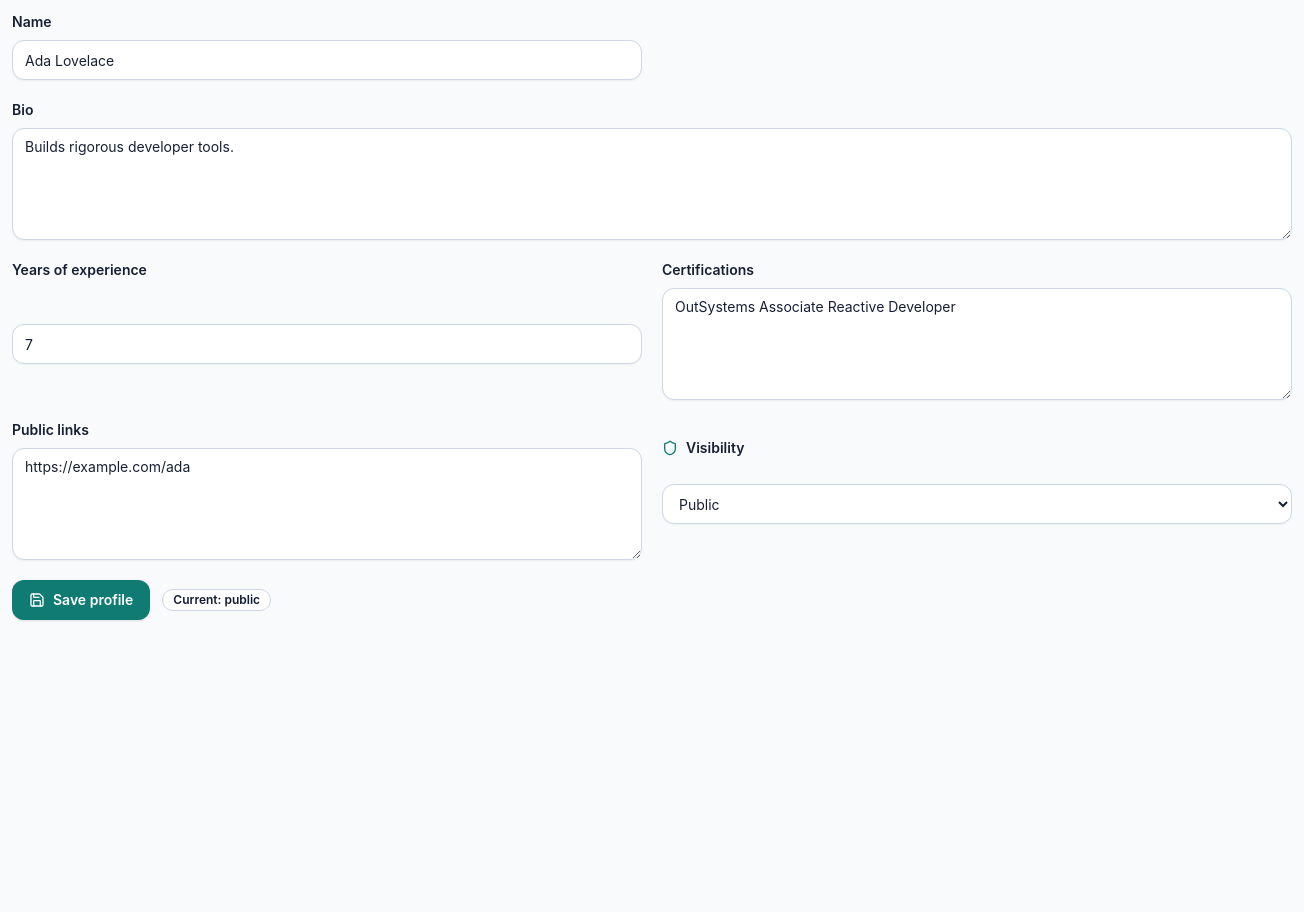
Test case: ProfileEditor › prevents submission when required profile fields are missing
Clear the field labelled "Name" at (327, 60), box [12,40,642,80]
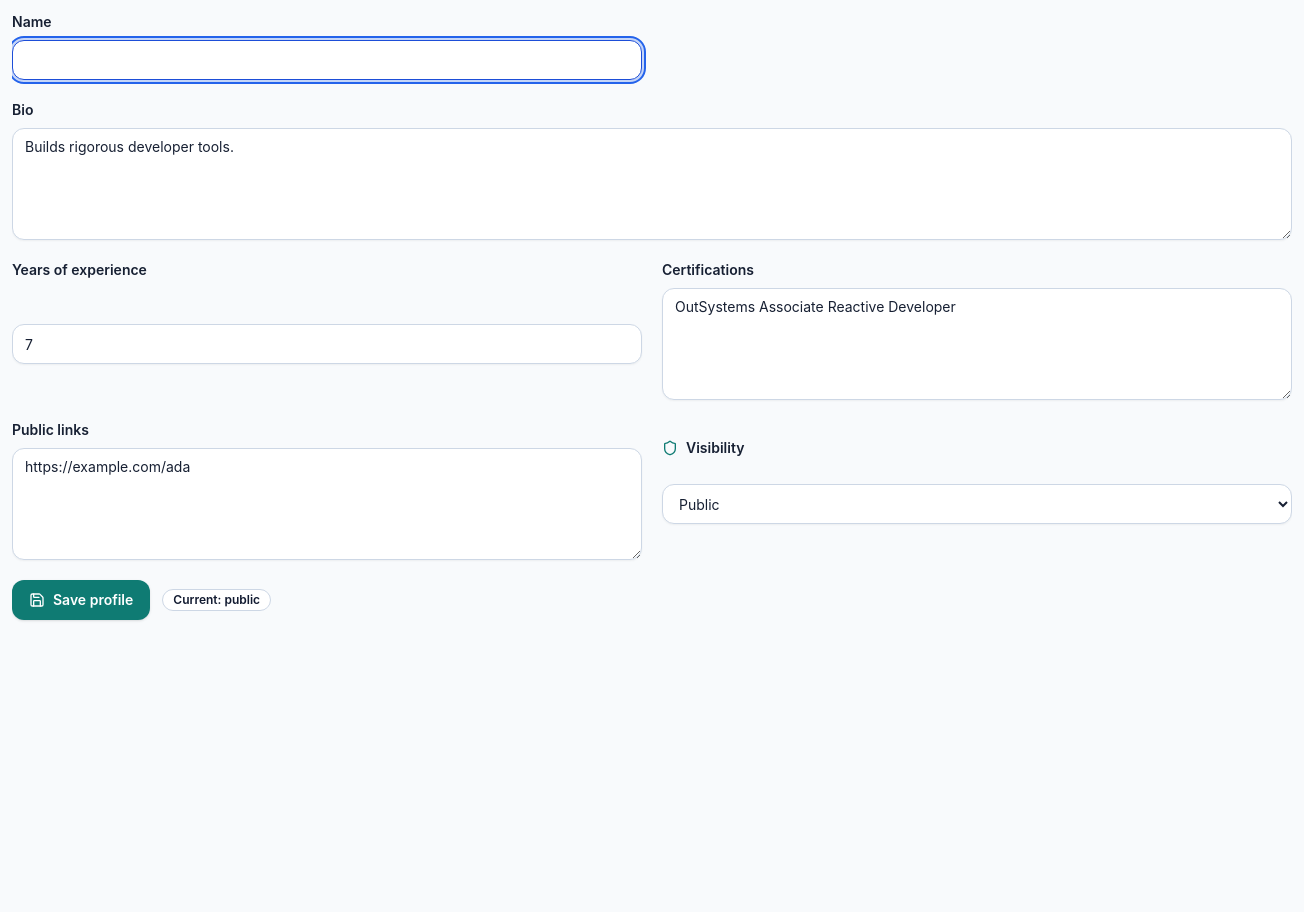
Click the button "Save profile" at (81, 600), box [12,580,150,620]
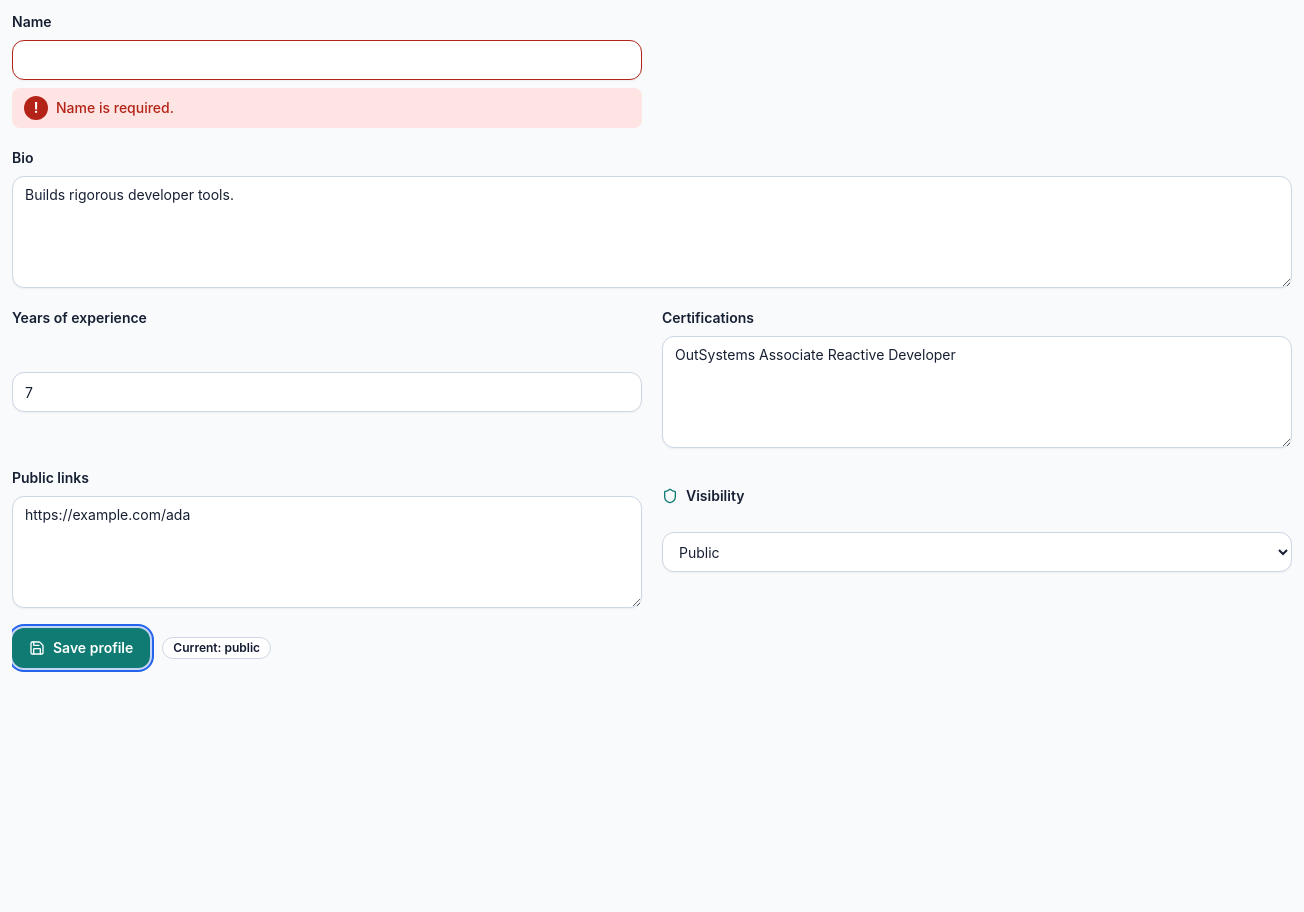
Result: the text "Name is required." is shown at [56,98,174,118]
